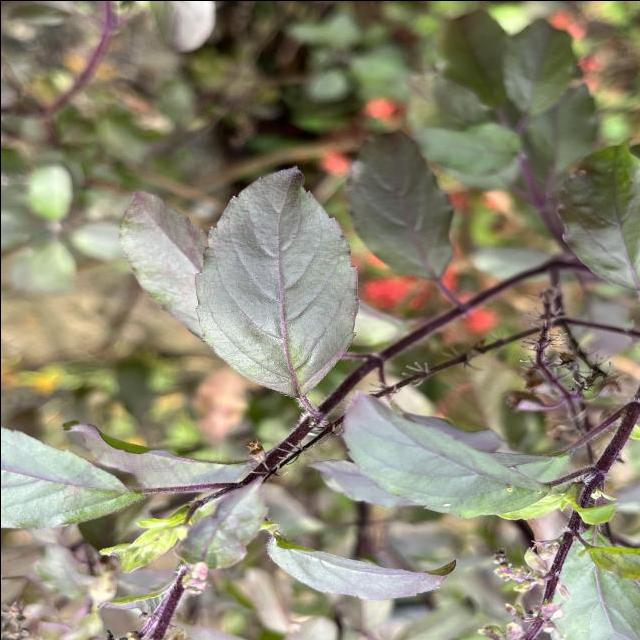Ocimum tenuiflorum: (192, 162, 364, 396)
